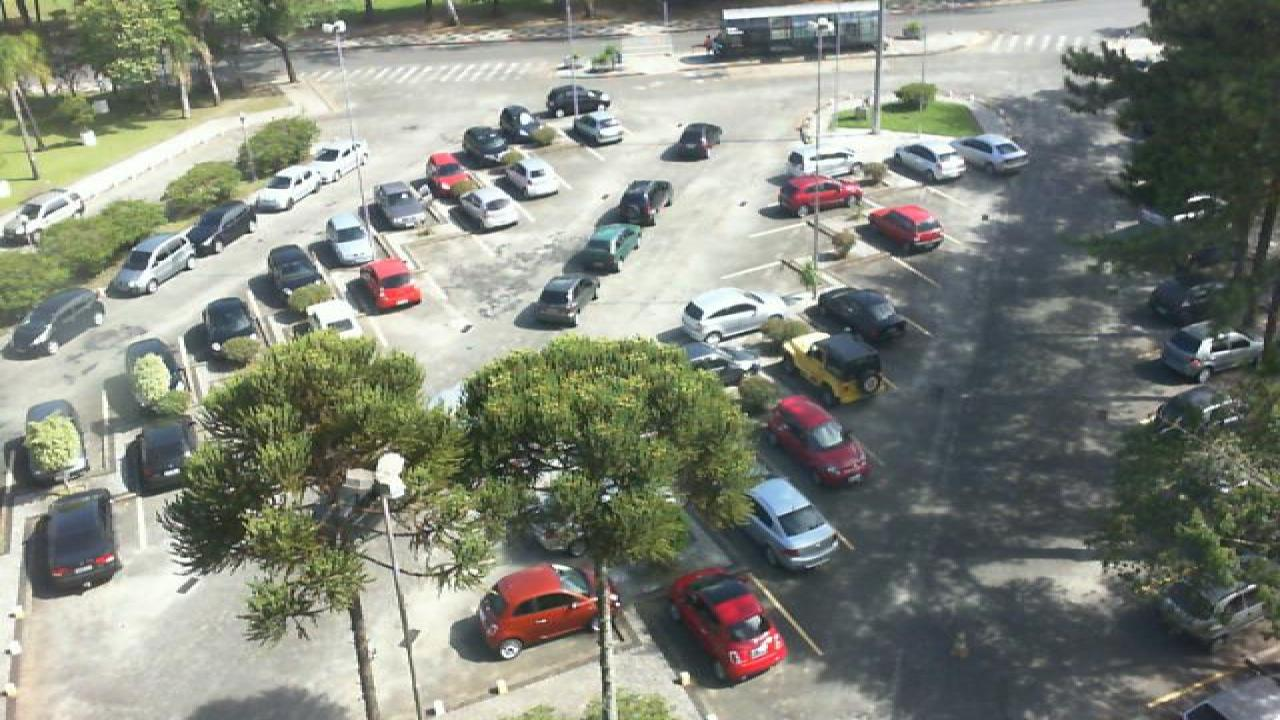Car: (470, 558, 616, 662), (670, 566, 788, 686), (764, 394, 870, 485), (1160, 564, 1280, 644), (742, 475, 844, 569), (34, 486, 124, 592), (782, 329, 884, 405), (680, 286, 804, 348), (0, 286, 106, 358), (1160, 316, 1268, 383), (104, 231, 200, 298), (18, 399, 84, 487), (674, 338, 782, 391), (806, 284, 902, 343), (122, 422, 200, 494), (2, 188, 90, 247), (172, 199, 258, 255), (1150, 385, 1246, 433), (120, 337, 180, 413), (244, 162, 326, 215), (774, 173, 866, 216), (1146, 275, 1224, 325), (200, 296, 260, 361), (866, 202, 944, 252), (532, 274, 600, 328), (356, 258, 424, 310), (886, 140, 968, 182), (298, 138, 370, 184), (780, 144, 864, 183), (576, 223, 642, 272), (264, 246, 320, 300), (372, 179, 430, 231), (320, 212, 374, 266), (496, 154, 560, 199), (454, 186, 516, 232), (958, 133, 1032, 171), (304, 297, 364, 343), (424, 152, 480, 198), (544, 84, 612, 120), (620, 179, 672, 224), (460, 125, 516, 165), (568, 109, 624, 145), (674, 123, 724, 161)
